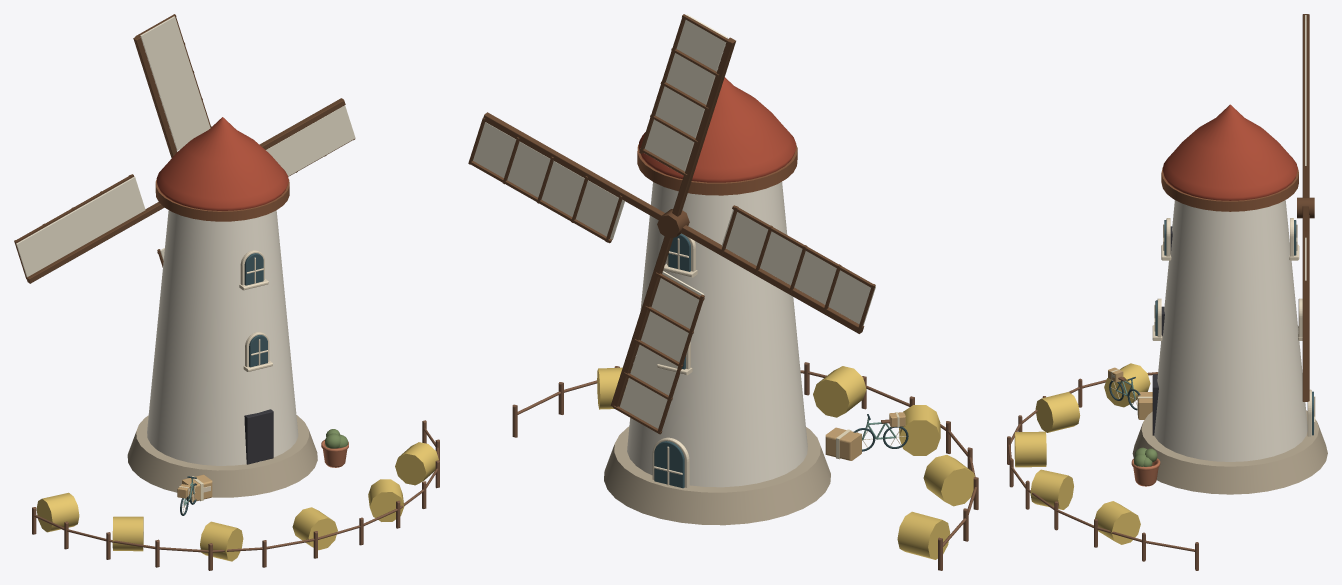
The model's file is windmill.glb.
The picture shows the model from 3 angles, left to right: view 1: azimuth 30°, elevation 25°; view 2: azimuth 150°, elevation 25°; view 3: azimuth 270°, elevation 25°; orthographic projection. The views are drawn at different scales.
Visible parts, largest first — view 1: part_0, part_0_14, part_0_7_1, part_0_7_0, part_0_7_3; view 2: part_0, part_0_7_3, part_0_7_0, part_0_7_1, part_0_7_2, part_0_14, part_0_7; view 3: part_0, part_0_14, part_0_7_0, part_0_7_2, part_0_7_3.
Boxes of the visible parts, left/top/right/bottom form: part_0: left=36, top=117, right=438, bottom=561; part_0_14: left=32, top=250, right=439, bottom=570; part_0_7_1: left=14, top=174, right=164, bottom=283; part_0_7_0: left=133, top=14, right=211, bottom=157; part_0_7_3: left=259, top=98, right=355, bottom=176; part_0: left=597, top=77, right=974, bottom=559; part_0_7_3: left=468, top=112, right=664, bottom=243; part_0_7_0: left=639, top=14, right=735, bottom=216; part_0_7_1: left=680, top=205, right=875, bottom=333; part_0_7_2: left=610, top=236, right=704, bottom=434; part_0_14: left=512, top=233, right=978, bottom=570; part_0_7: left=657, top=209, right=689, bottom=238; part_0: left=1014, top=104, right=1327, bottom=544; part_0_14: left=1007, top=218, right=1315, bottom=570; part_0_7_0: left=1302, top=14, right=1309, bottom=197; part_0_7_2: left=1302, top=237, right=1309, bottom=401; part_0_7_3: left=1302, top=206, right=1309, bottom=282.
Bounding box in the file's own units: 20.07 × 22.85 × 14.46.
